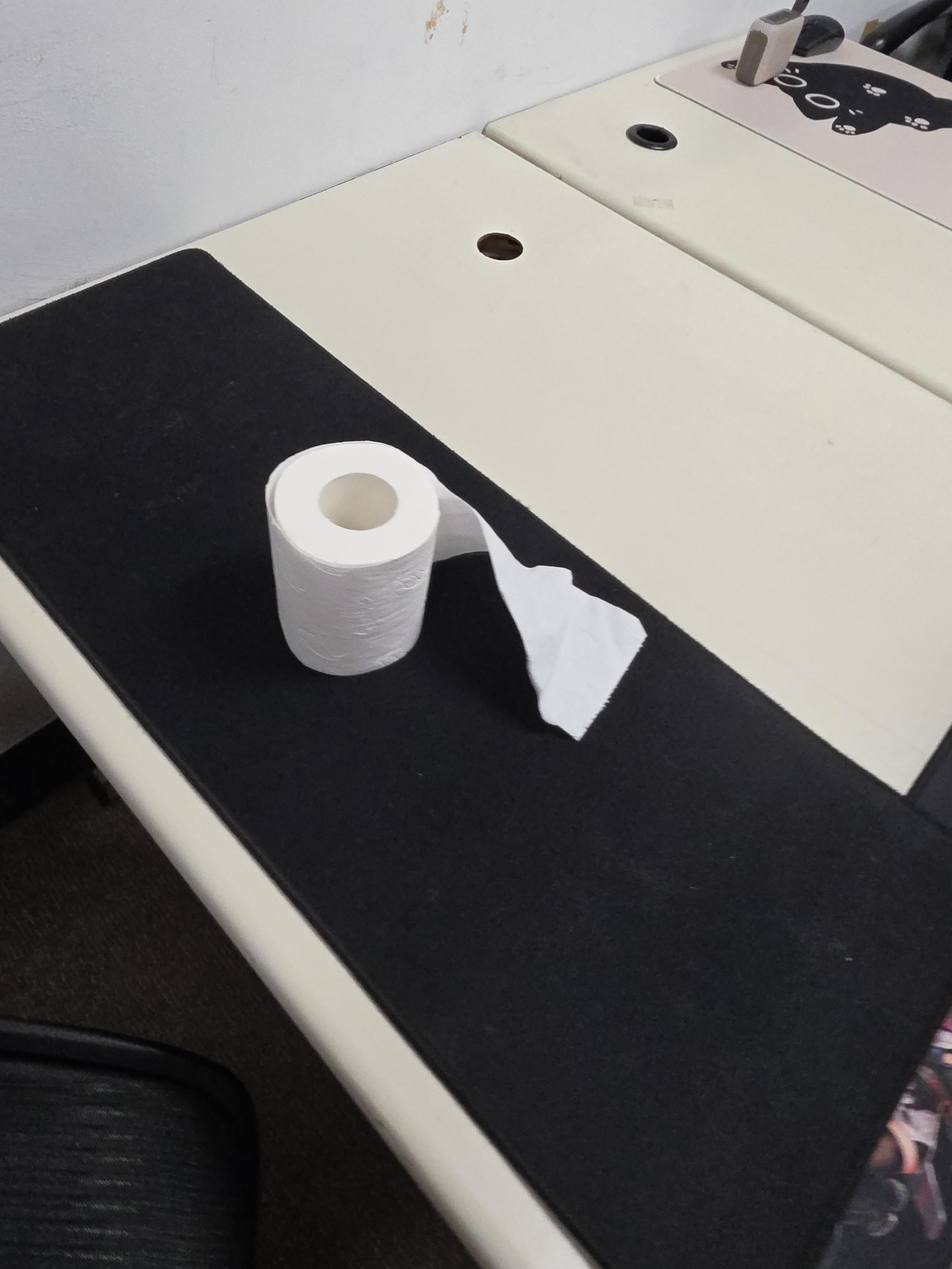tissue: (264, 440, 648, 741)
